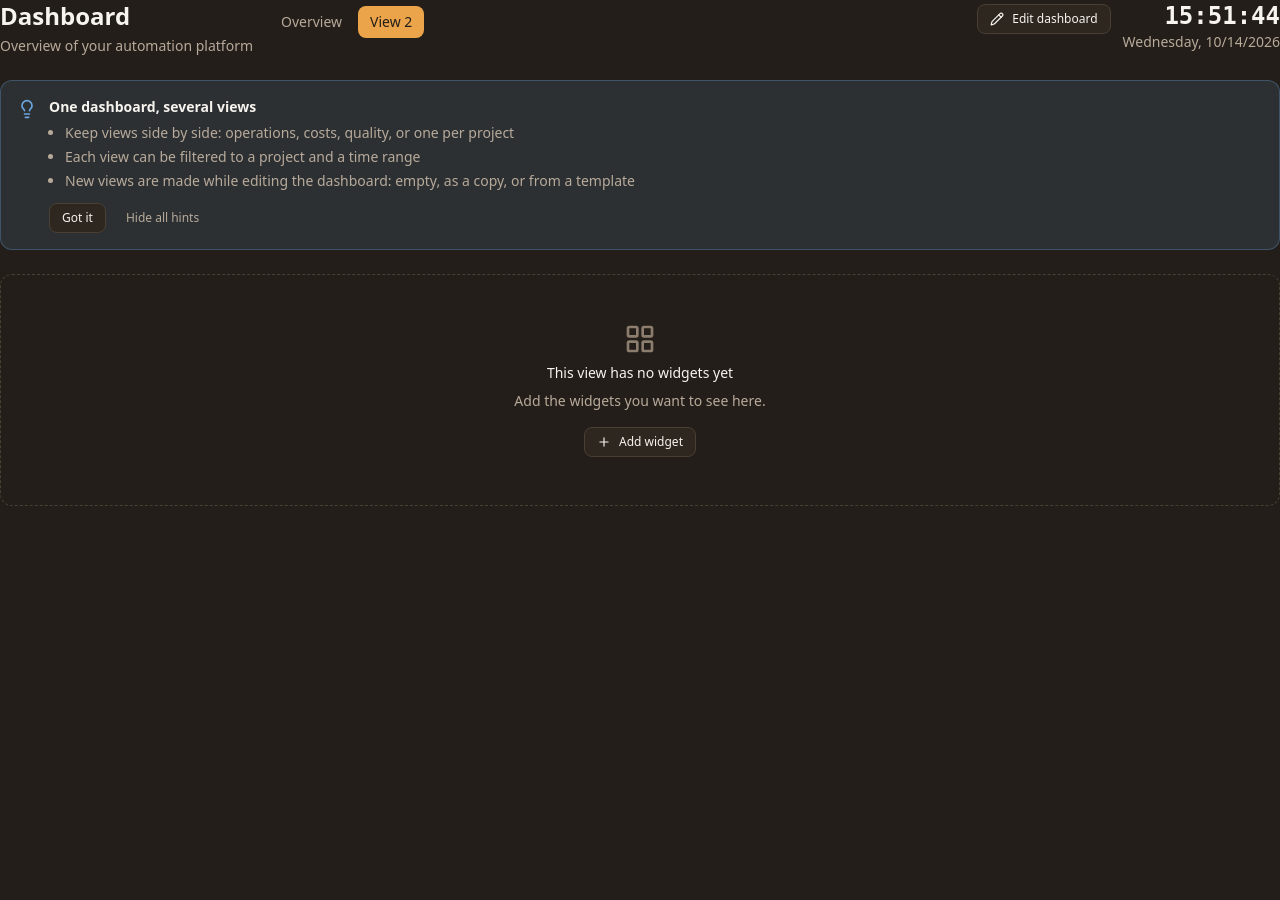
Test: Dashboard views › shows an empty view as such and opens the widget catalog from there (565adc37)
Expected: the text "This view has no widgets yet" is shown, [547,363,733,383]
Expected: the text "Recent Runs" is not shown
Click the button "Add widget": coordinates (640, 442) [584,427,696,457]
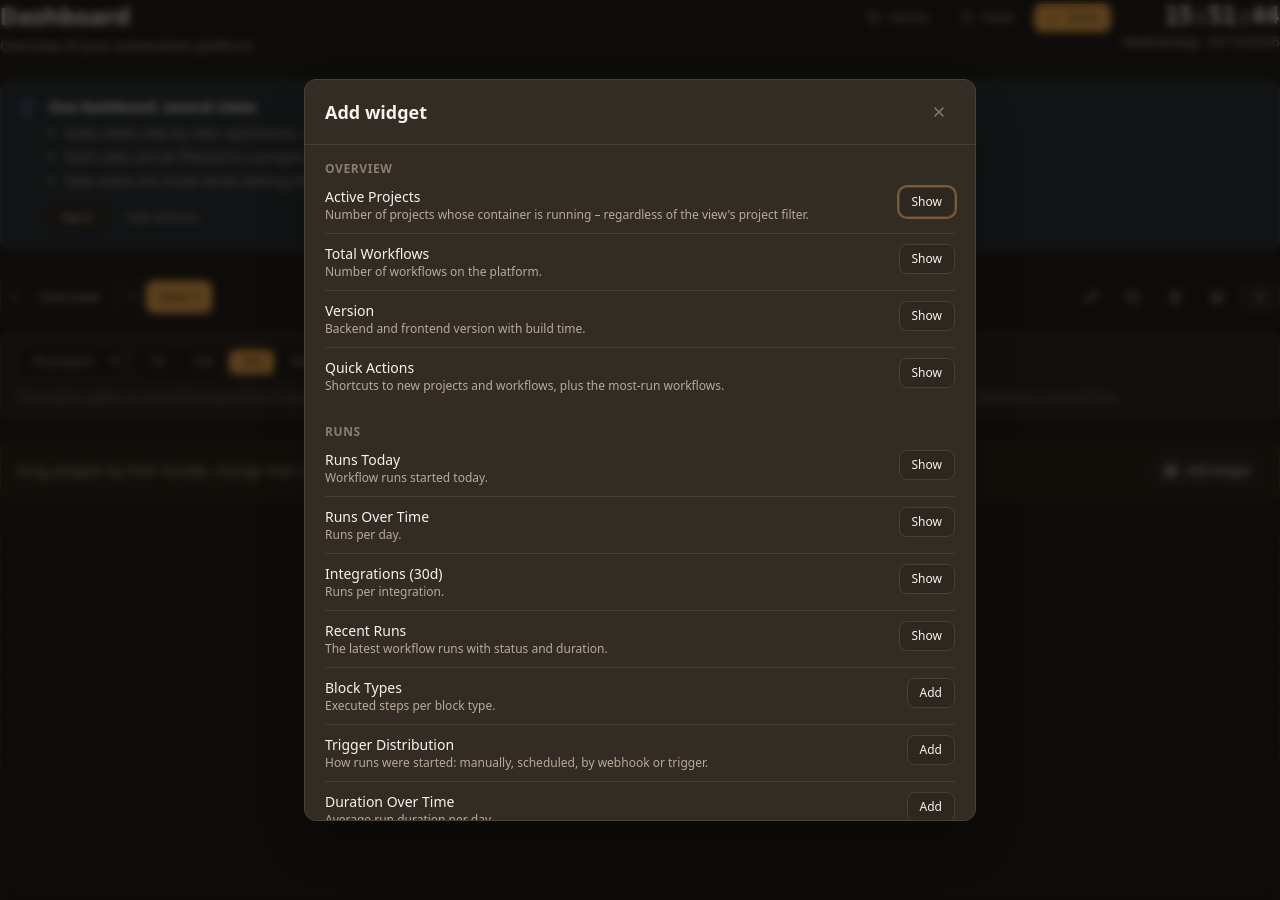
Expected: the text "Runs Over Time" is shown, [325,507,429,527]
